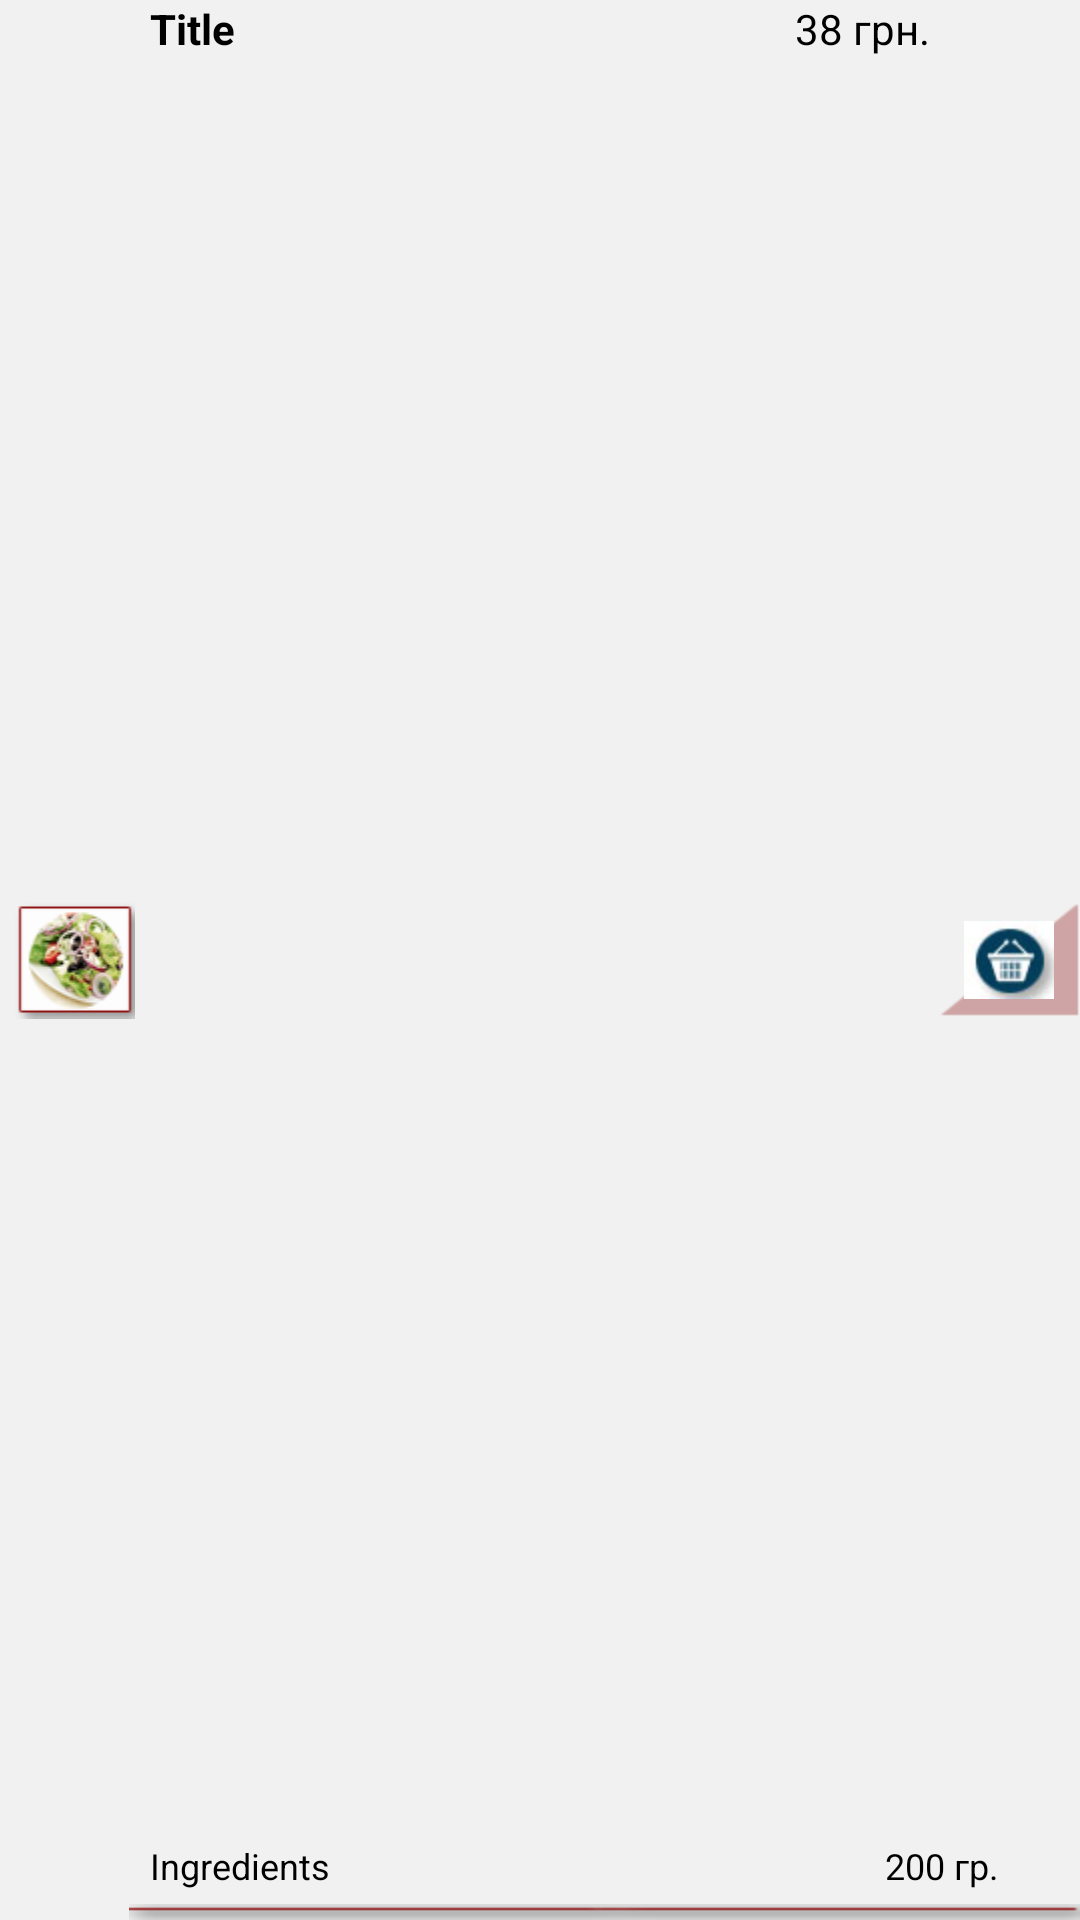

Screen size 1080 × 1920. Icon name, then its box in pixels as (x1, y1, x2, y2):
basket: (942, 905, 1078, 1015)
little foto dish: (18, 906, 135, 1019)
